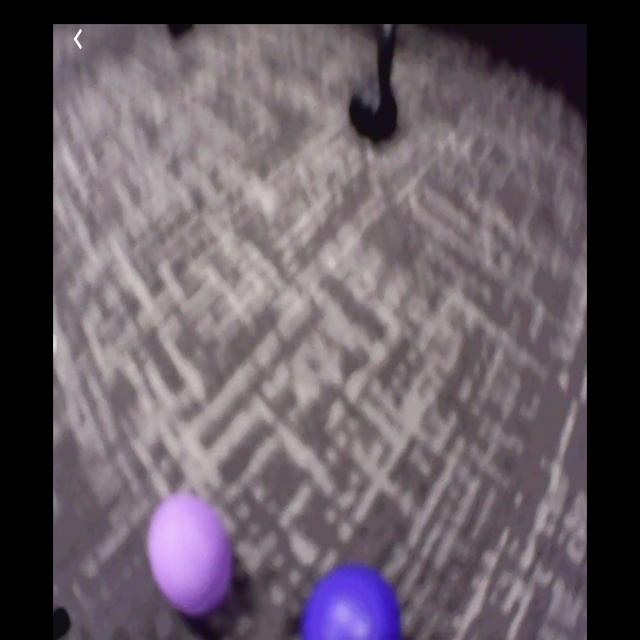ball: (148, 491, 234, 618), (293, 566, 405, 640)
